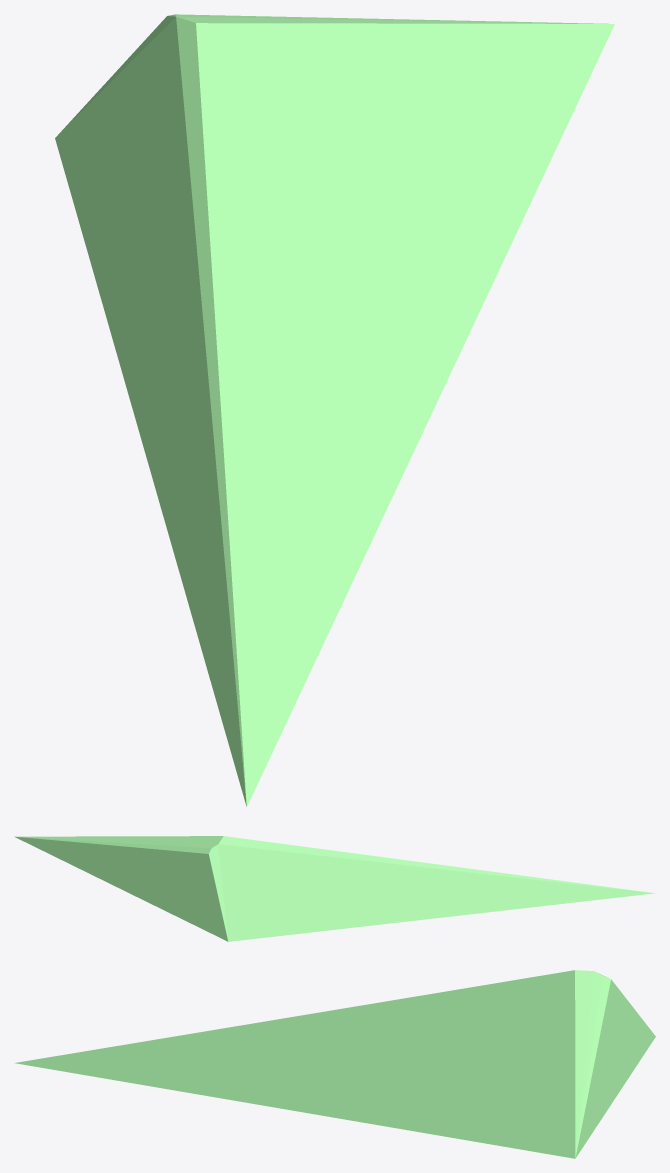
Rendered from linkhou_LR4_R560_link6_respondable_coll_14.dae.
The picture shows the model from 3 angles, top to bottom: view 1: azimuth 30°, elevation 25°; view 2: azimuth 150°, elevation 25°; view 3: azimuth 270°, elevation 25°; orthographic projection. The views are drawn at different scales.
Visible parts, largest first — view 1: Node_00000209DB3AB0A0; view 2: Node_00000209DB3AB0A0; view 3: Node_00000209DB3AB0A0.
Boxes of the visible parts, bbox=[...] form: Node_00000209DB3AB0A0: bbox=[55, 14, 614, 806]; Node_00000209DB3AB0A0: bbox=[14, 836, 654, 941]; Node_00000209DB3AB0A0: bbox=[14, 970, 655, 1158].
Size of the model in its own units: 0.0122 by 0.00495 by 0.0134.
